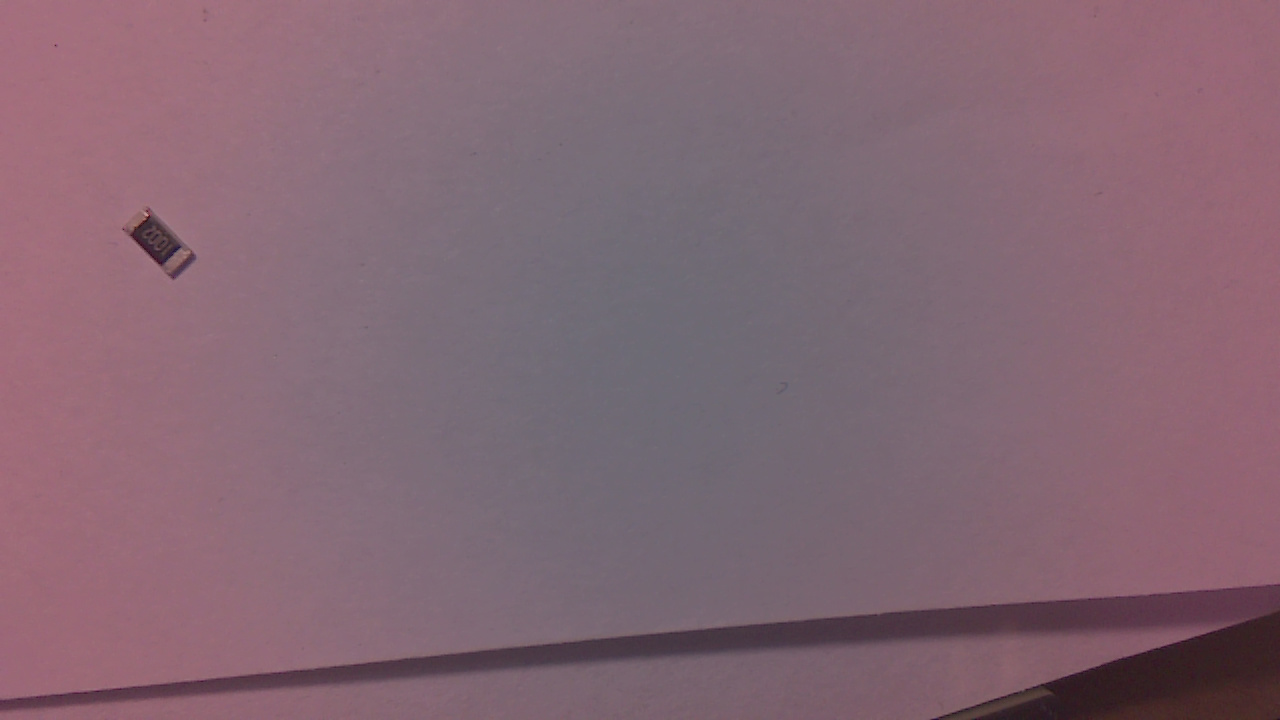Resistor: (127, 212, 202, 282)
